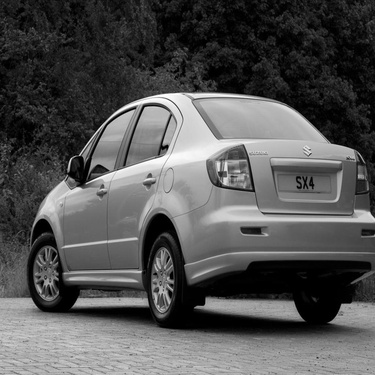car: (22, 82, 358, 316)
